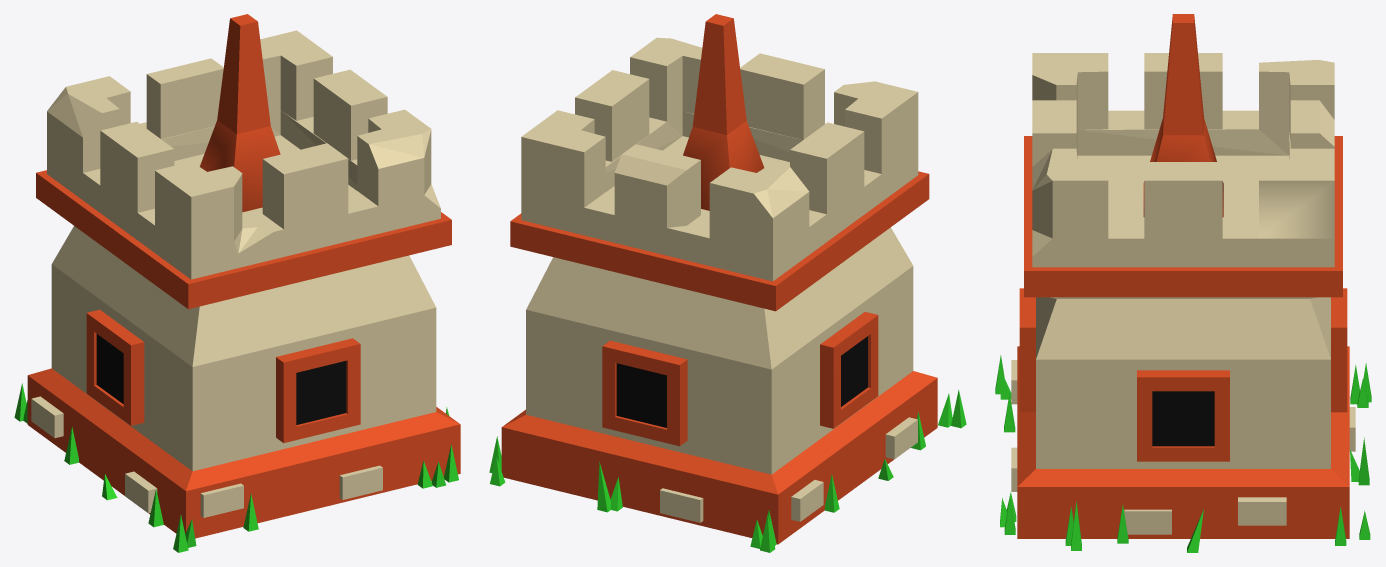
File: Tower lvl1.fbx
3 renders of one model, left to right at view 1: azimuth 30°, elevation 25°; view 2: azimuth 150°, elevation 25°; view 3: azimuth 270°, elevation 25°, orthographic. The views are drawn at different scales.
Parts seen in each view (by area): view 1: Turret Tower 01, Turret Tower 01.001; view 2: Turret Tower 01, Turret Tower 01.001; view 3: Turret Tower 01, Turret Tower 01.001.
Boxes of the visible parts, x1=… form: Turret Tower 01: x1=14, y1=30, x2=460, y2=552; Turret Tower 01.001: x1=199, y1=14, x2=280, y2=212; Turret Tower 01: x1=489, y1=37, x2=966, y2=552; Turret Tower 01.001: x1=683, y1=14, x2=764, y2=210; Turret Tower 01: x1=995, y1=53, x2=1371, y2=552; Turret Tower 01.001: x1=1143, y1=14, x2=1223, y2=217.
Bounding box in the file's own units: 397 × 509 × 386.
